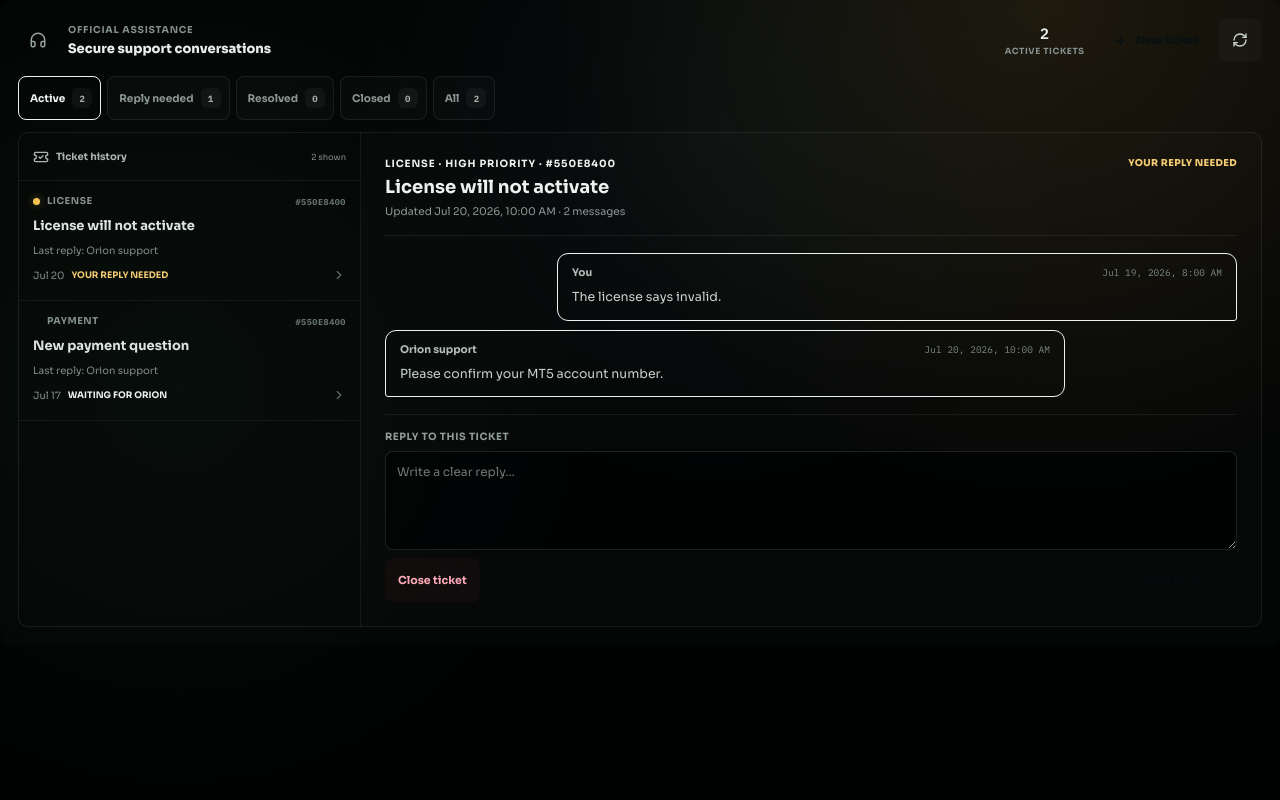
Scenario: Support Ticket Center › stores the selected ticket in the portal address for refresh-safe navigation
Check: the heading "License will not activate" is shown, box [385, 176, 625, 199]
What coordinates should you click on to do the following:
click the button that starts with "Payment"
I would click on:
 (73, 321)
Its box is [19, 301, 360, 421].
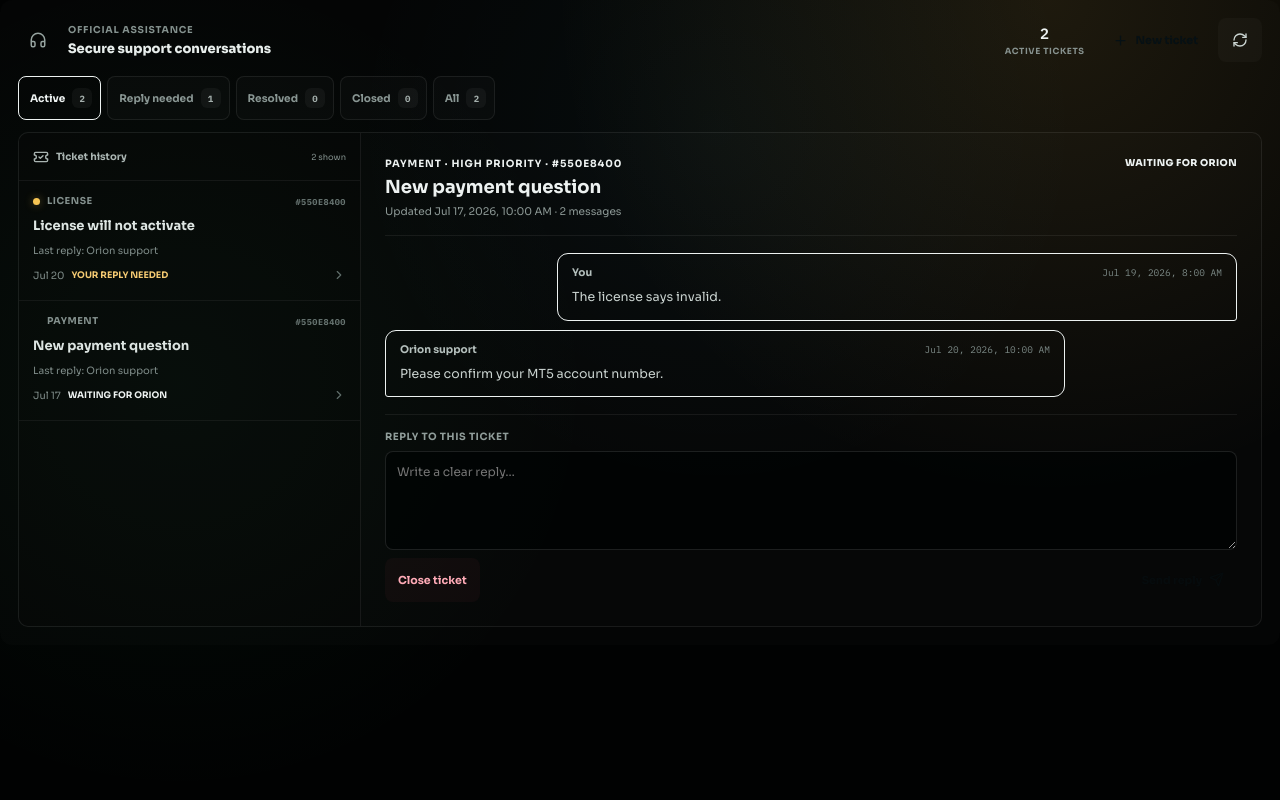
Check: the heading "New payment question" is shown, box [385, 176, 622, 199]
